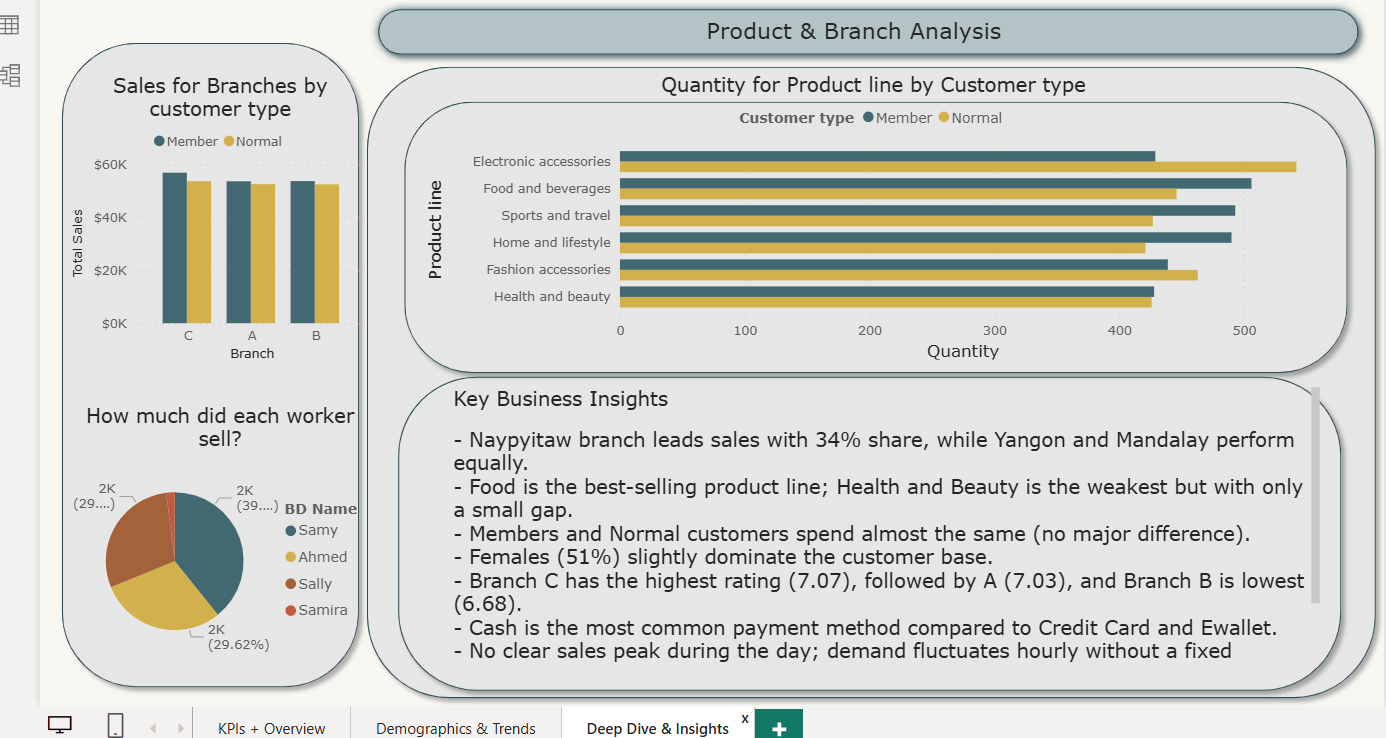

The page's visual inventory and layout, read from the dashboard file:
{"tool":"powerbi","page":{"name":"Deep Dive & Insights","canvas":[1280,720],"ordinal":2},"visuals":[{"type":"shape","box":[302.1,100.7,978.4,619.2],"z":1000},{"type":"shape","box":[313,46.3,951.2,61.2],"z":2000},{"type":"shape","box":[12.2,78.9,300.7,631.4],"z":3000},{"type":"shape","box":[332,396,915.8,317.1],"z":4000},{"type":"shape","box":[337.5,134.7,915.8,276.3],"z":5000},{"type":"clusteredColumnChart","title":"Sales for  Branches by customer type ","fields":{"Y":["supermarket_sales - Sheet1.Total"],"Category":["supermarket_sales - Sheet1.Branch"],"Series":["supermarket_sales - Sheet1.Customer type"]},"box":[26,116.5,290.7,278.3],"z":6000},{"type":"clusteredBarChart","title":"Quantity for Product line by Customer type","fields":{"Category":["supermarket_sales - Sheet1.Product line"],"Y":["supermarket_sales - Sheet1.Quantity"],"Series":["supermarket_sales - Sheet1.Customer type"]},"box":[364.7,115.7,858.7,279],"z":7000},{"type":"pieChart","title":"How much did each worker sell?","fields":{"Category":["supermarket_sales - Sheet1.BD Name"],"Y":["supermarket_sales - Sheet1.Quantity"]},"box":[19.1,431.4,304.8,255.8],"z":8000},{"type":"textbox","box":[387.8,411,835.6,276.3],"z":9000},{"type":"textbox","box":[630.1,57.2,609.7,43.5],"z":10000}]}

Visuals, with their boxes on the page's 1280x720 design canvas (x1, y1, x2, y2). These are canvas units, not pixel positions in the 1386x738 screenshot, which may show the page scaled, cropped or inside an application window:
shape: {"x1": 302, "y1": 101, "x2": 1280, "y2": 720}
shape: {"x1": 313, "y1": 46, "x2": 1264, "y2": 108}
shape: {"x1": 12, "y1": 79, "x2": 313, "y2": 710}
shape: {"x1": 332, "y1": 396, "x2": 1248, "y2": 713}
shape: {"x1": 338, "y1": 135, "x2": 1253, "y2": 411}
"Sales for  Branches by customer type " clusteredColumnChart: {"x1": 26, "y1": 116, "x2": 317, "y2": 395}
"Quantity for Product line by Customer type" clusteredBarChart: {"x1": 365, "y1": 116, "x2": 1223, "y2": 395}
"How much did each worker sell?" pieChart: {"x1": 19, "y1": 431, "x2": 324, "y2": 687}
textbox: {"x1": 388, "y1": 411, "x2": 1223, "y2": 687}
textbox: {"x1": 630, "y1": 57, "x2": 1240, "y2": 101}
